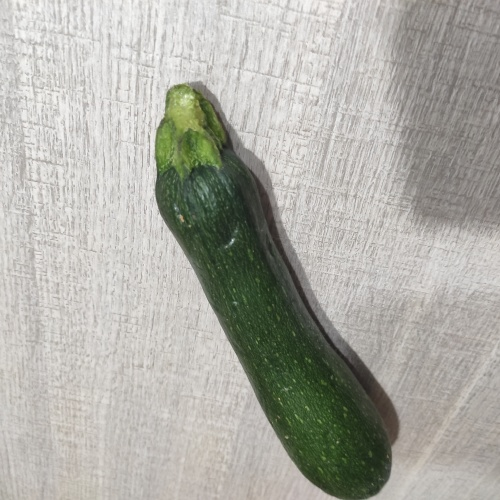zucchine: (161, 101, 396, 492)
